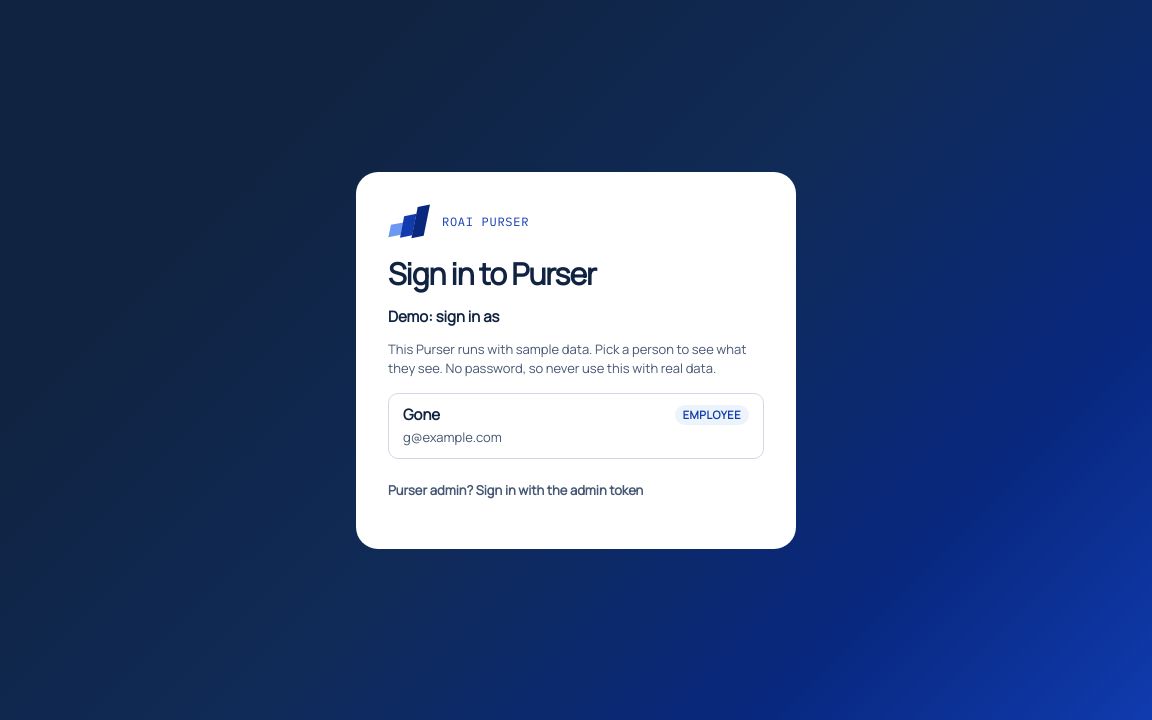
Test: sign-in page › shows a demo sign-in that failed
Click the button "Gone Employee g@example.com" at coordinates (422, 414), box [388, 392, 764, 458]
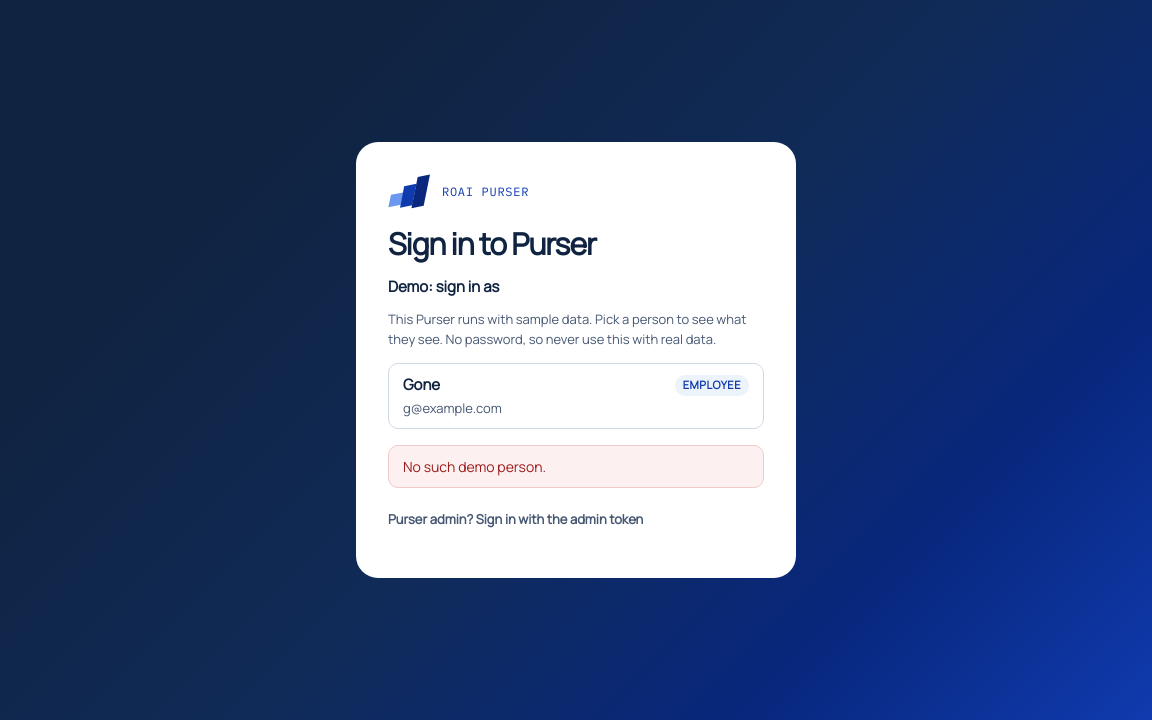
Now the text "No such demo person." is shown, box [388, 445, 764, 488]
